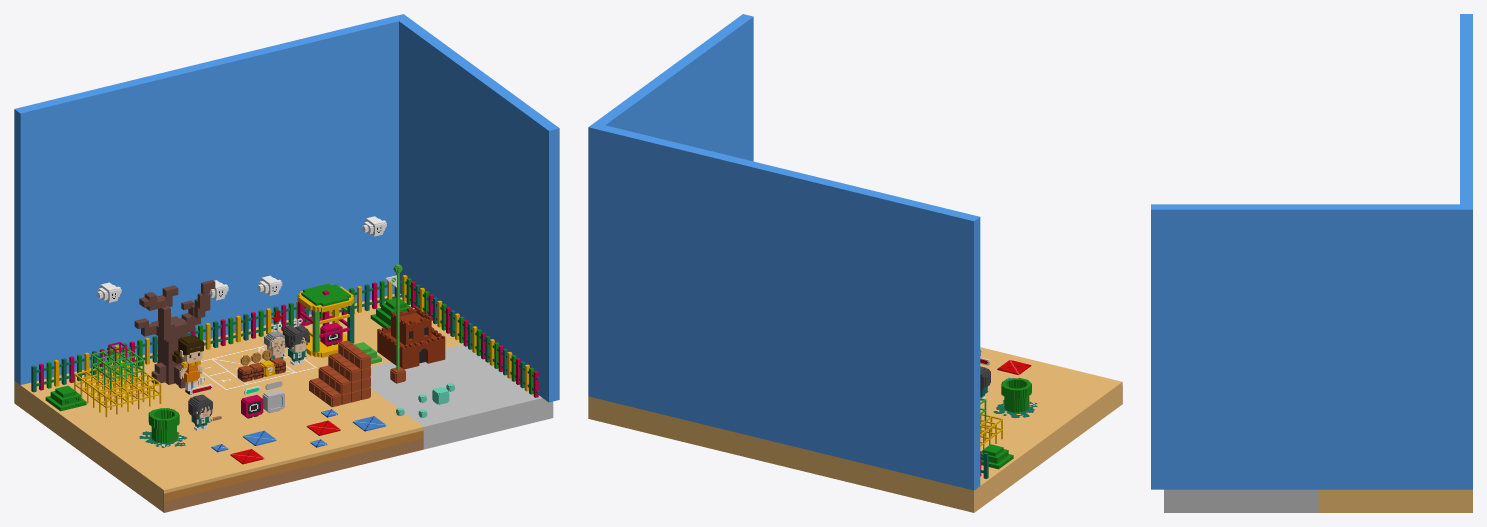
Rendered from squidgame&supermario_fixed_02-1.vox.fbx.
3 views of the same model, side by side, from view 1: azimuth 30°, elevation 25°; view 2: azimuth 150°, elevation 25°; view 3: azimuth 270°, elevation 25° (orthographic). The views are drawn at different scales.
Visible parts, largest first — view 1: po22, po21, po20, po13, po11, po12, po5, po43, po45, po42, po28, po27 (+22 smaller); view 2: po22, po13, po20, po21, po11, po12, po43, po5, po29, po45, po30, po31 (+1 smaller); view 3: po43, po45, po42, po44, po31, po28, po20, po11, po21, po22.
Boxes of the visible parts, x1,y1,x2,y2 form: po22: (14,77,150,249); po21: (144,45,279,217); po20: (274,14,409,185); po13: (14,218,150,384); po11: (280,157,398,321); po12: (150,186,279,353); po5: (89,404,293,512); po43: (474,73,559,266); po45: (399,18,484,211); po42: (474,212,559,402); po28: (370,344,553,449); po27: (219,382,423,481); po22: (845,185,980,355); po13: (845,324,980,490); po20: (588,122,722,292); po21: (717,154,851,324); po11: (588,262,716,427); po12: (717,293,845,458); po43: (669,14,753,158); po5: (980,350,1122,458); po29: (845,421,1048,512); po45: (595,68,679,143); po30: (717,428,845,481); po31: (588,396,716,449); po43: (1151,204,1305,349); po45: (1305,204,1459,349); po42: (1151,349,1305,489); po44: (1305,349,1459,489); po31: (1318,489,1472,512); po28: (1164,489,1318,512); po20: (1460,144,1472,349); po11: (1460,349,1472,489); po21: (1460,79,1472,144); po22: (1460,14,1472,79).
Bounding box in the file's own units: 360 × 260 × 250.
